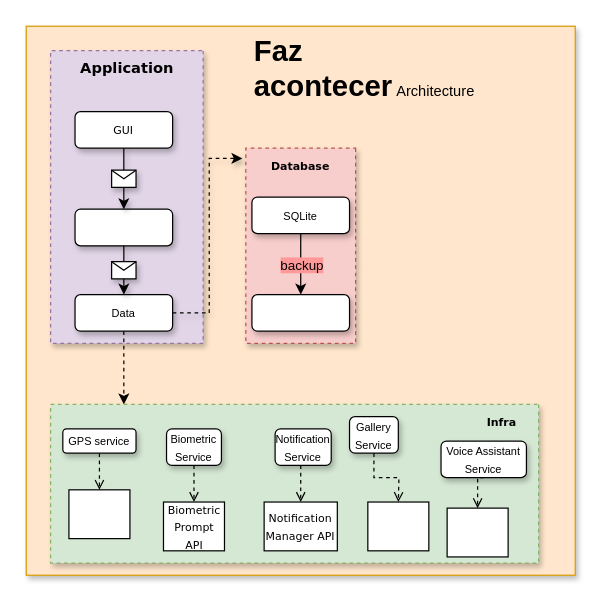
Image size: 604x605. Some labels were removed from this diagram. The shapes that lost their labels are listed below. From the top down, each one's centre as x and y in pixels, then its label:
the point at 124,228: Domain Rule
the point at 301,314: Firebase
the point at 99,514: Android Location API
the point at 398,526: Photo Picker
the point at 477,532: Google Assistant SDK
